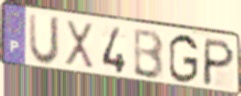4: (100, 24, 128, 76)
B: (132, 27, 166, 82)
G: (167, 32, 200, 85)
P: (200, 37, 237, 89)
U: (27, 12, 62, 68)
X: (63, 18, 96, 72)
